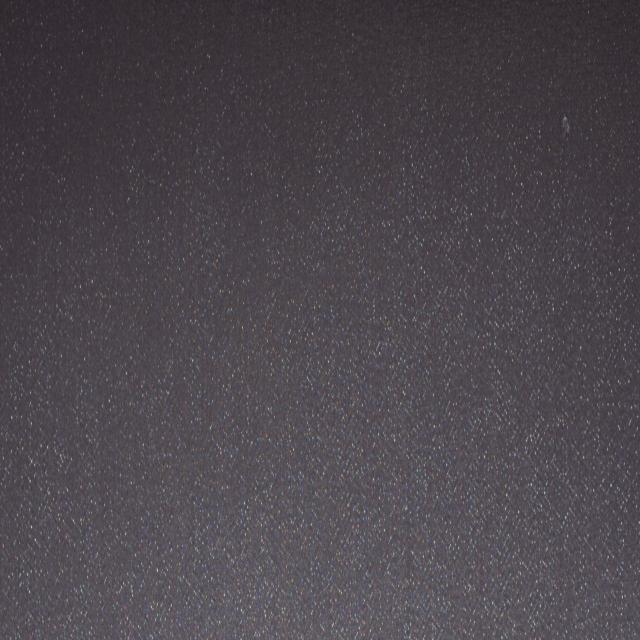Knot: (563, 114, 572, 136)
